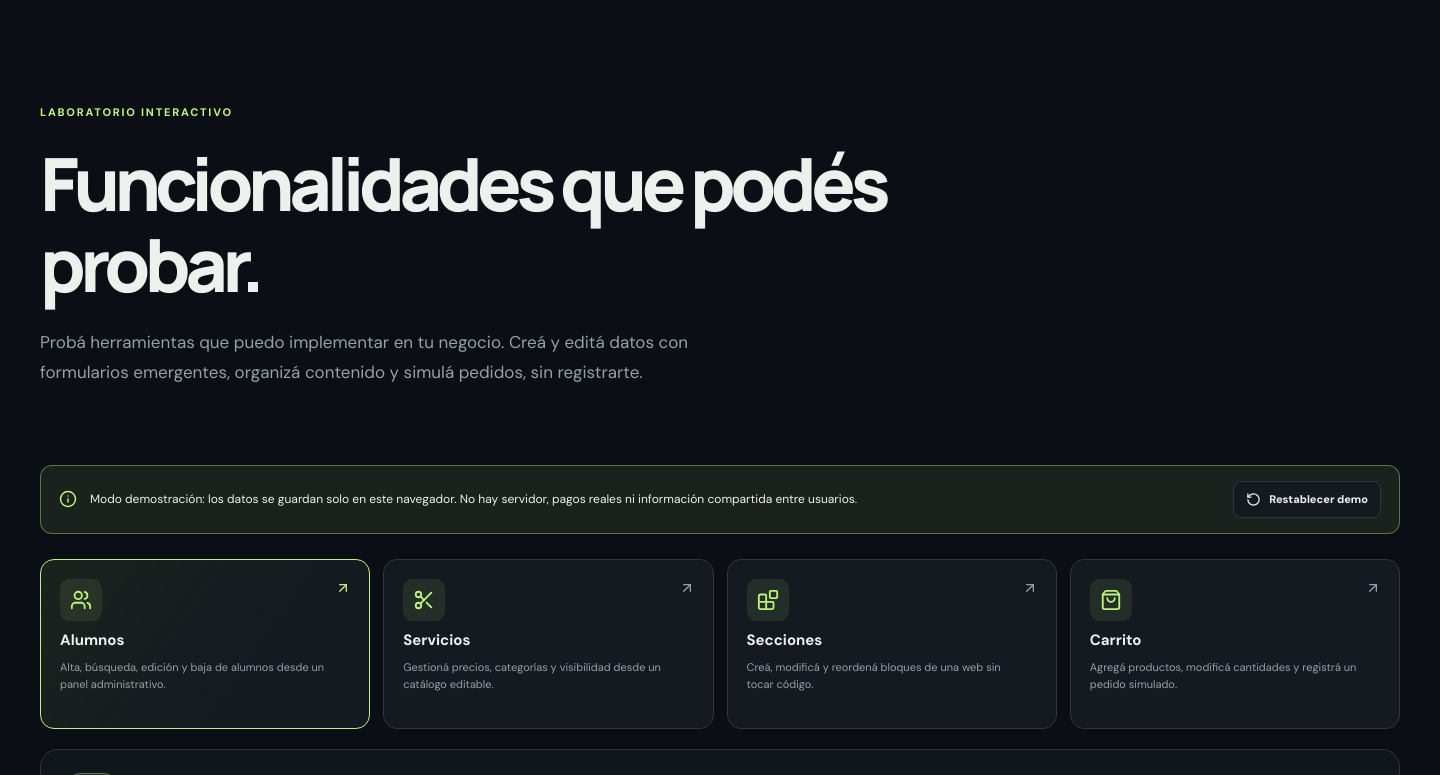
Test: Laboratory — additional business workflow regressions › changes shopping quantities and records the order after confirmation
Click the tab "Carrito": click(1111, 600) 1070,559 -> 1400,729
(page scrolled)
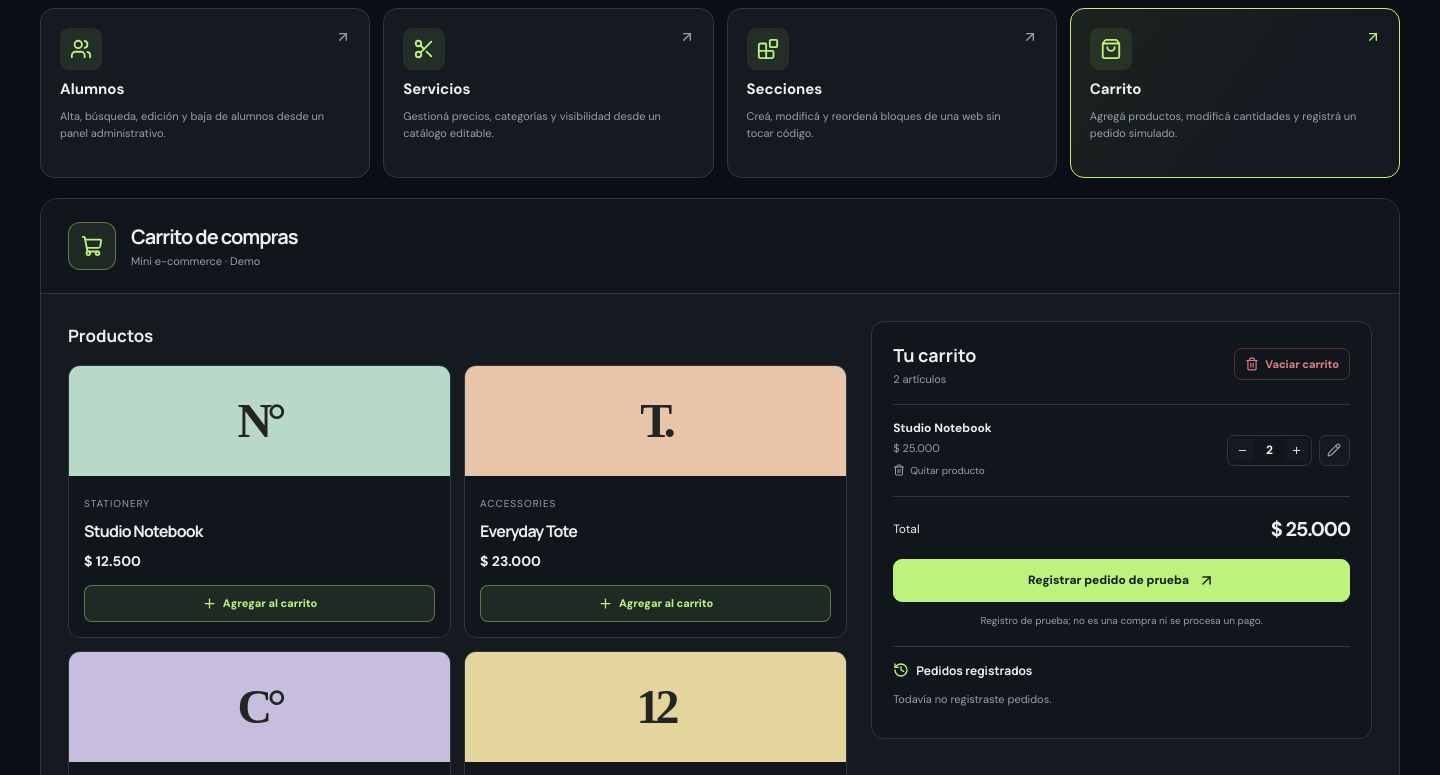
Click the button named "Sumar unidad: Studio Notebook": click(1296, 450) 1285,439 -> 1308,462
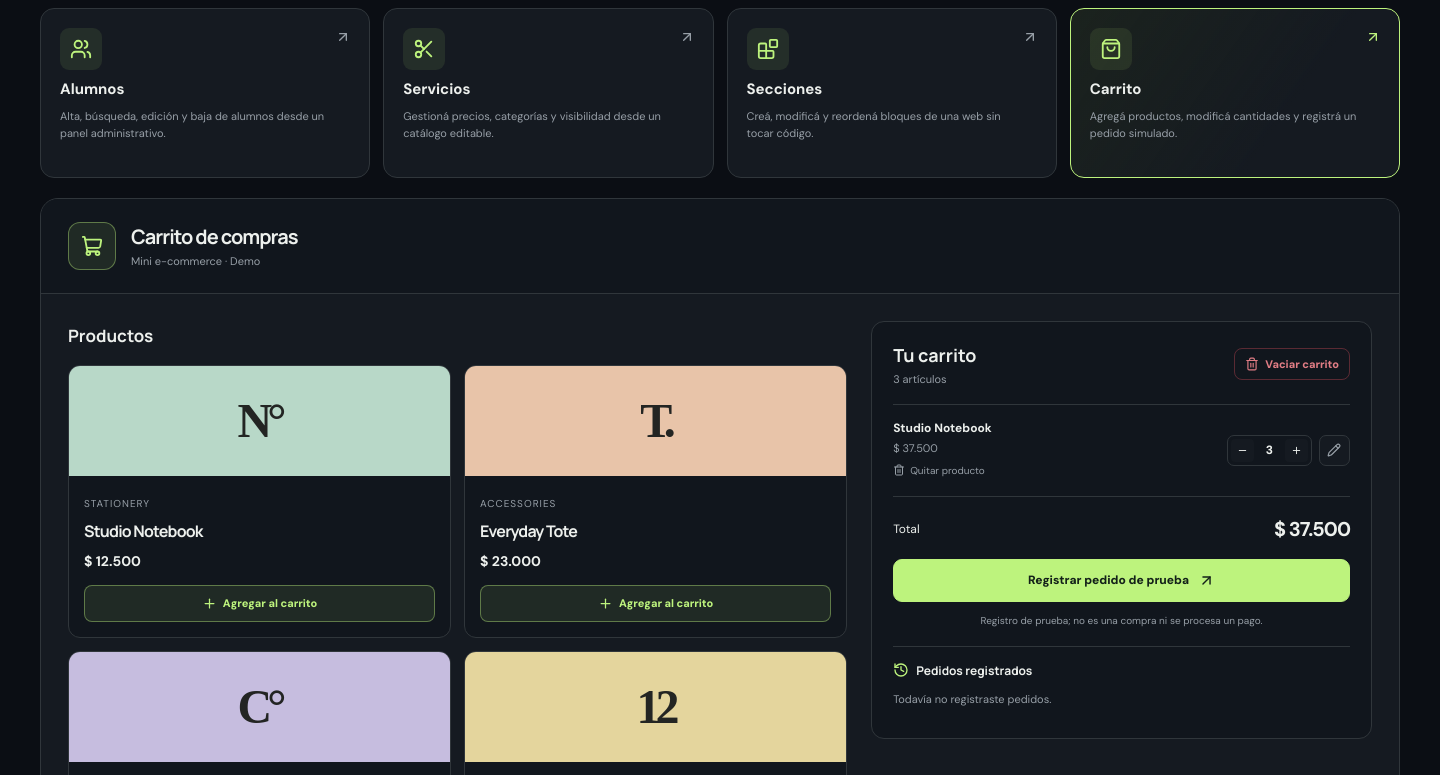
Click the button "Registrar pedido de prueba": click(1122, 580) 893,559 -> 1350,602
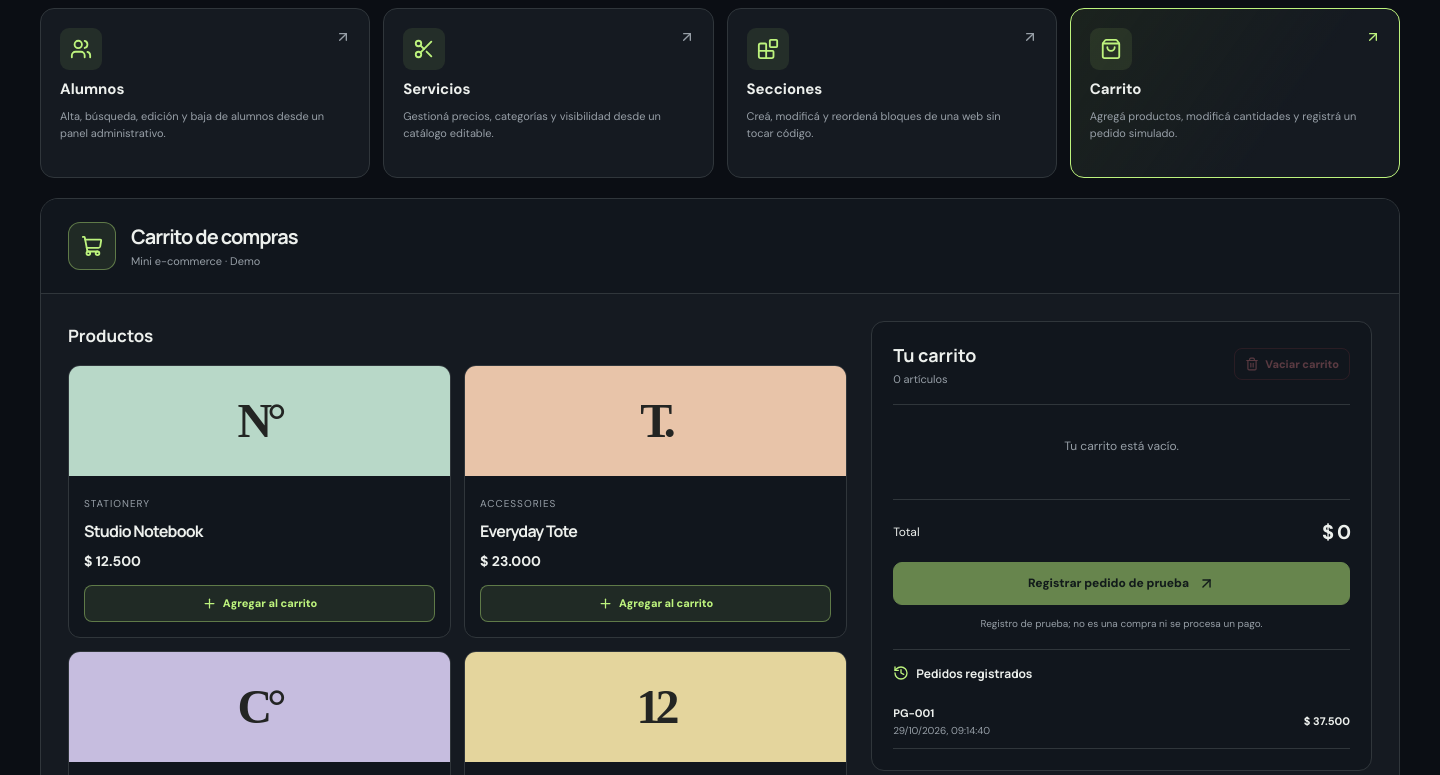
expect the text "PG-001" is shown: met, box 893,706 -> 934,720
